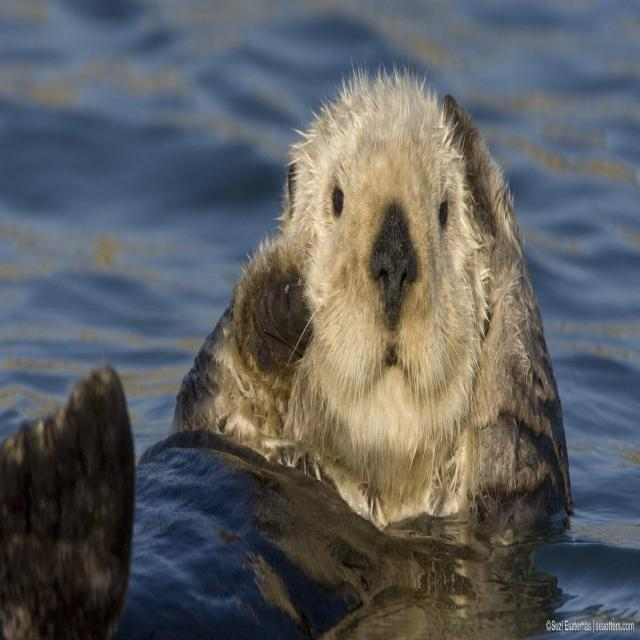Otter: (170, 57, 572, 519)
